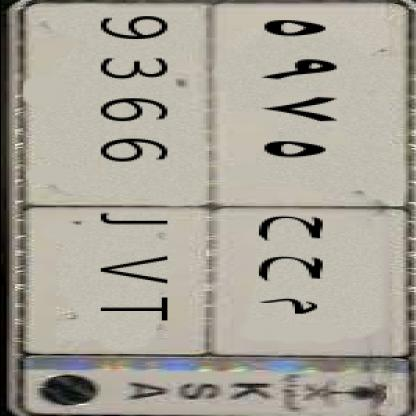english: (14, 4, 226, 360)
